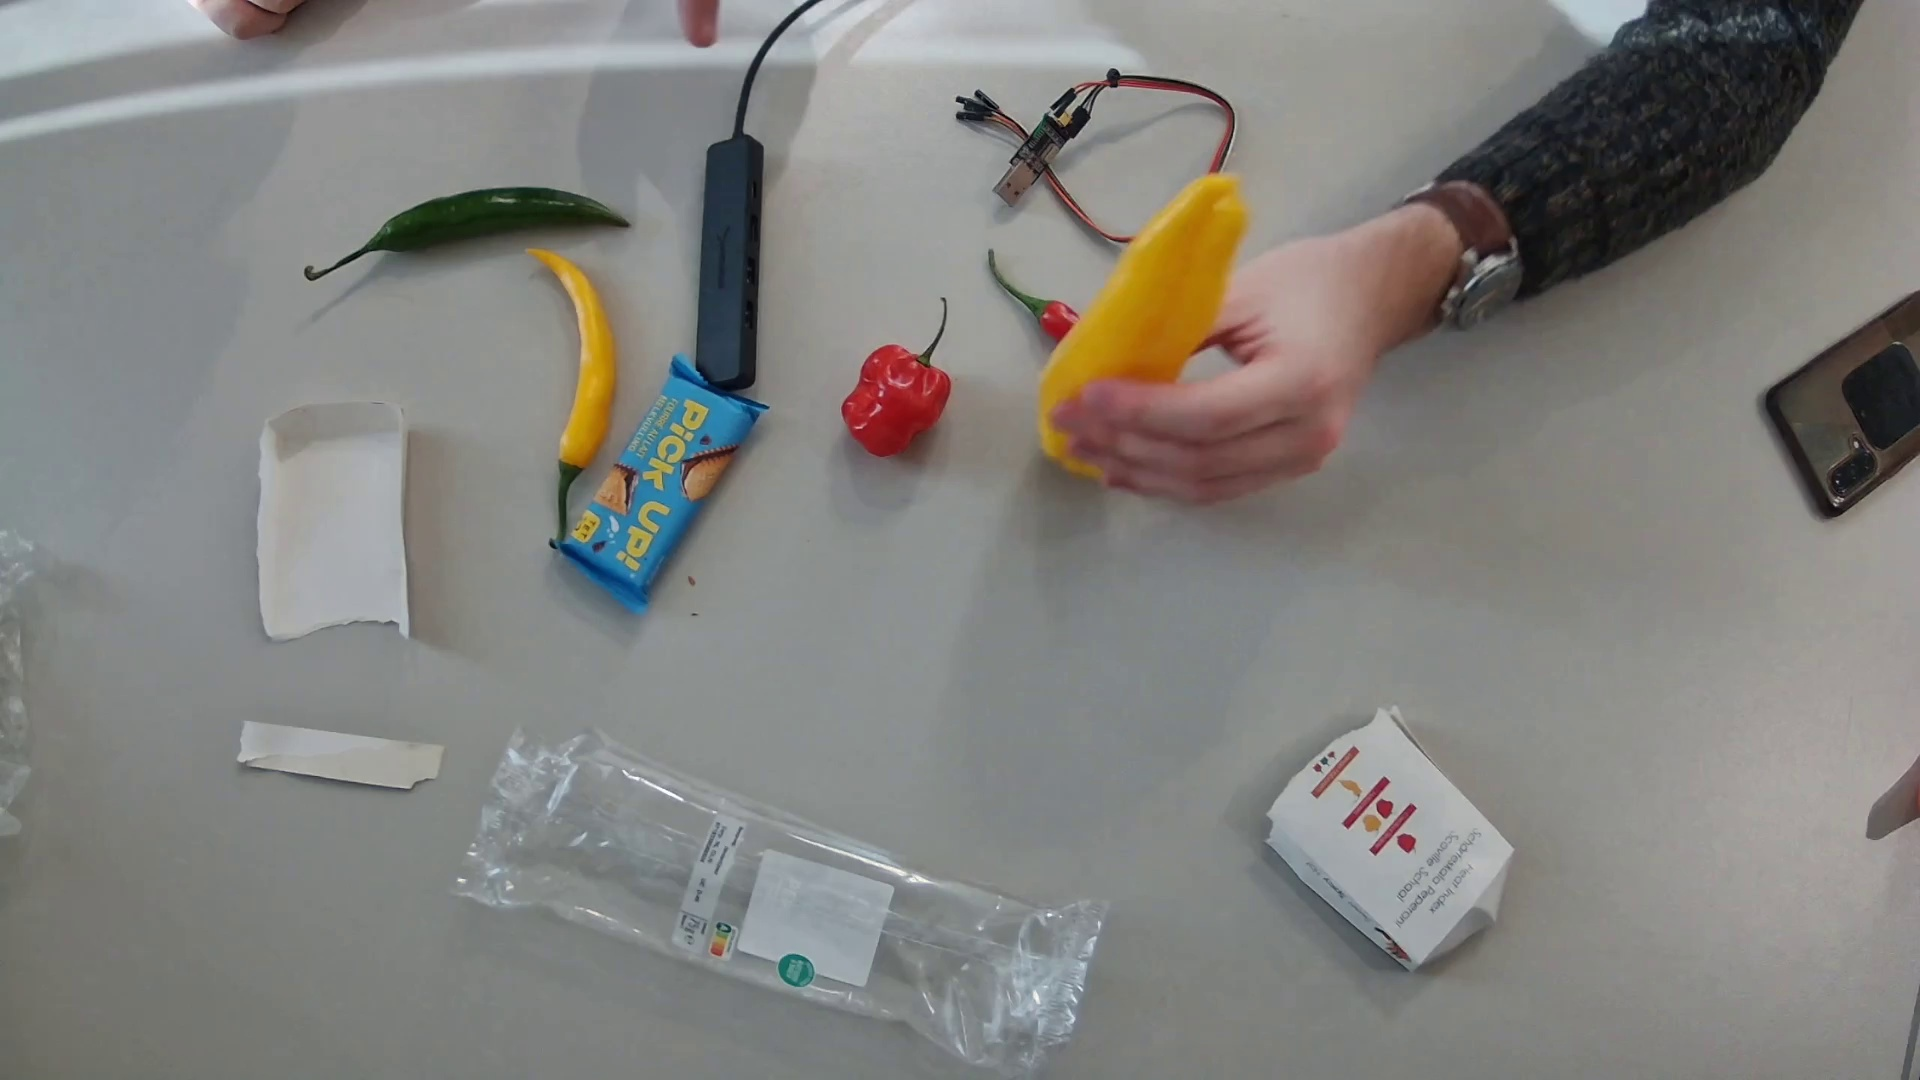Habanero_Pepper_Red: (839, 295, 952, 459)
Pick_up: (555, 353, 769, 617)
Spanish_Pepper_Green: (302, 185, 633, 286)
Spanish_Pepper_Yellow: (526, 248, 617, 550)
Sweet_Pepper_Yellow: (1036, 177, 1254, 481), (1338, 777, 1364, 796)
